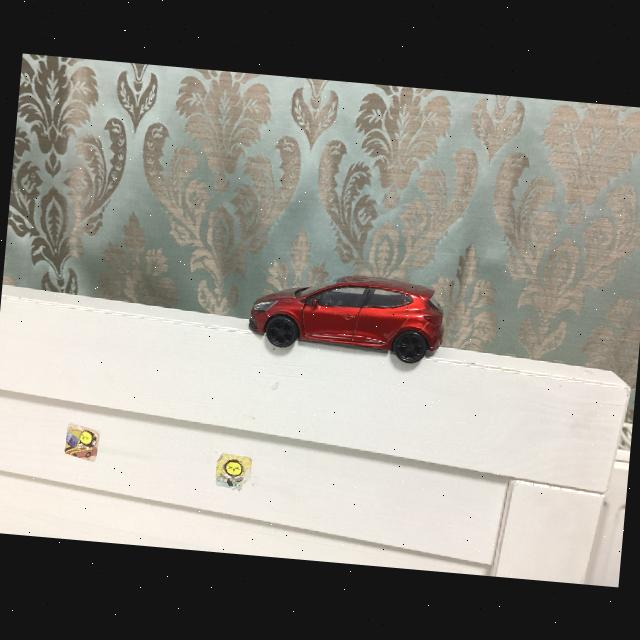Dogru_Jant: (393, 332, 427, 364), (264, 316, 296, 347)
